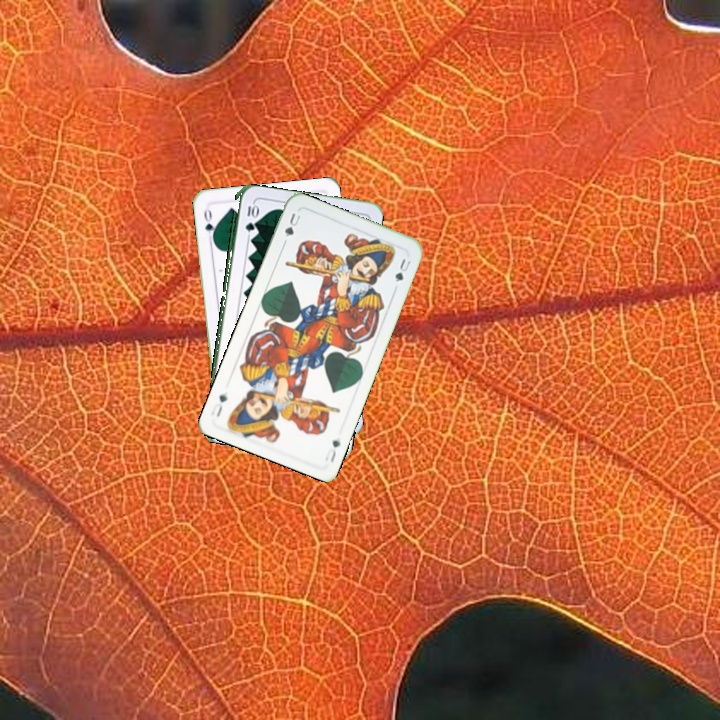G10: (241, 200, 258, 234)
GO: (200, 205, 218, 244)
GU: (280, 209, 303, 240), (321, 436, 343, 465)
